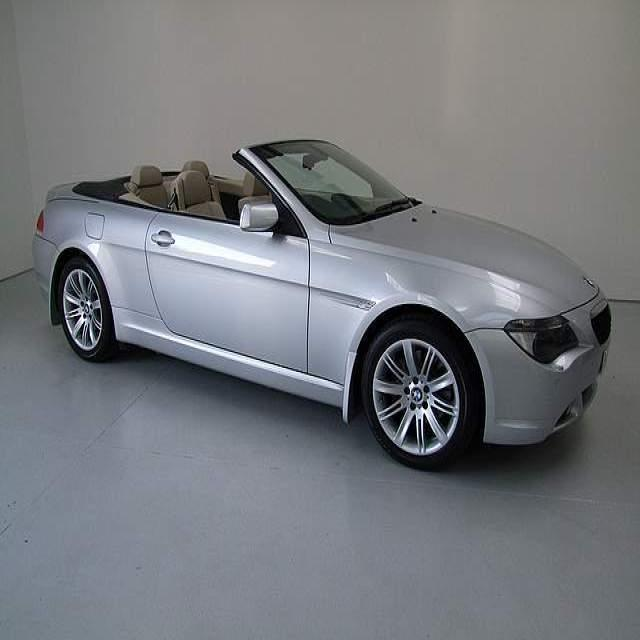Car: (23, 98, 600, 478)
